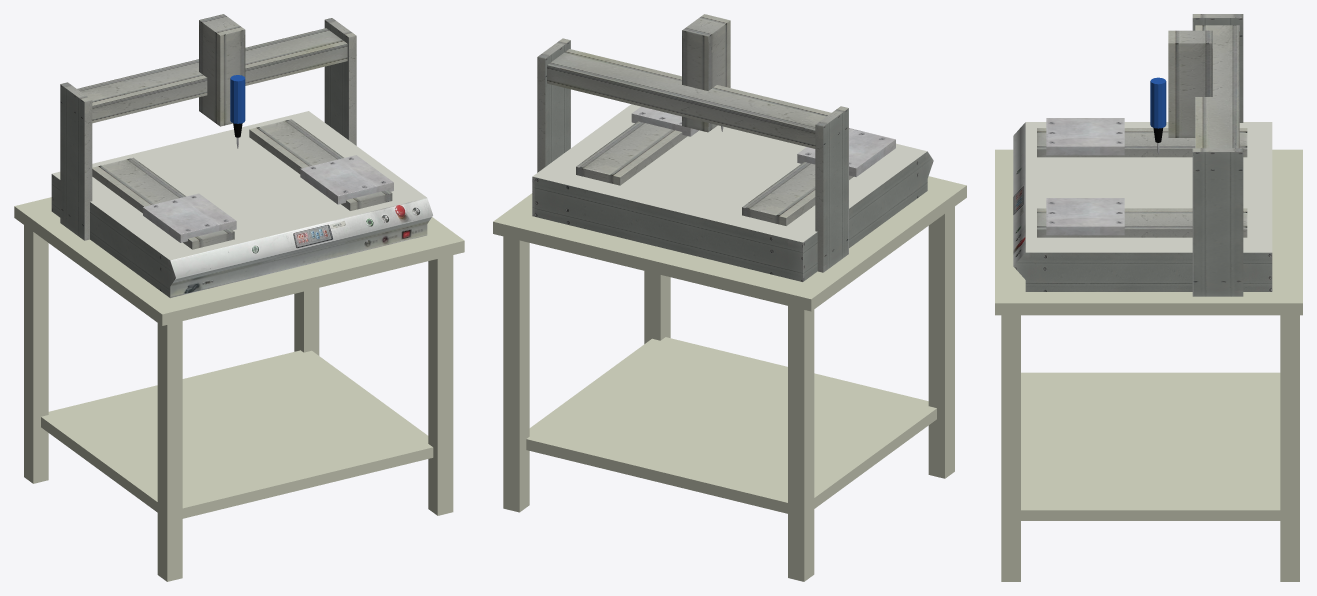
The model's file is 流水线_b1_jiqi4.fbx.
3 views of the same model, side by side, from view 1: azimuth 30°, elevation 25°; view 2: azimuth 150°, elevation 25°; view 3: azimuth 270°, elevation 25° (orthographic). The views are drawn at different scales.
Visible parts, largest first — view 1: Box015; view 2: Box015; view 3: Box015.
Part boxes in pixels (<box>): Box015: <box>14,14,464,581</box>; Box015: <box>493,14,966,581</box>; Box015: <box>995,14,1302,581</box>.
Size of the model in its own units: 23.77 by 34.18 by 20.14.
